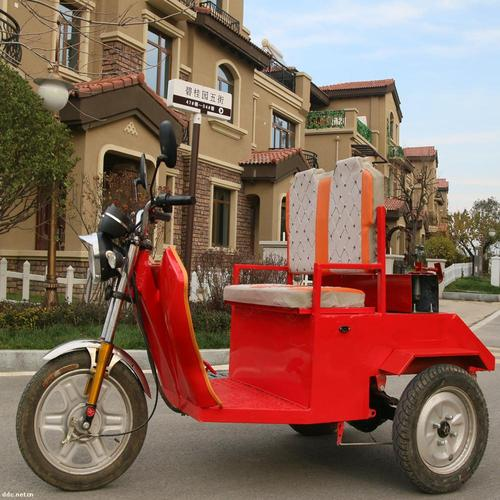empty: (30, 65, 473, 400)
